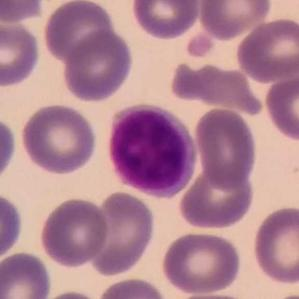Lymphocyte: (104, 100, 200, 200)
Platelets: (186, 27, 214, 56)
RBC: (86, 189, 157, 279), (18, 101, 99, 176), (60, 28, 135, 104), (192, 105, 259, 189), (159, 229, 243, 296), (37, 195, 111, 269), (168, 62, 268, 116), (177, 166, 256, 231), (40, 0, 117, 65), (234, 15, 299, 83), (250, 204, 299, 286), (196, 0, 274, 41), (0, 15, 43, 89), (129, 0, 202, 42), (262, 70, 299, 144), (0, 249, 54, 299), (0, 190, 25, 264), (95, 275, 171, 299), (0, 114, 19, 186), (0, 0, 48, 24), (168, 290, 259, 299), (34, 288, 106, 299)
